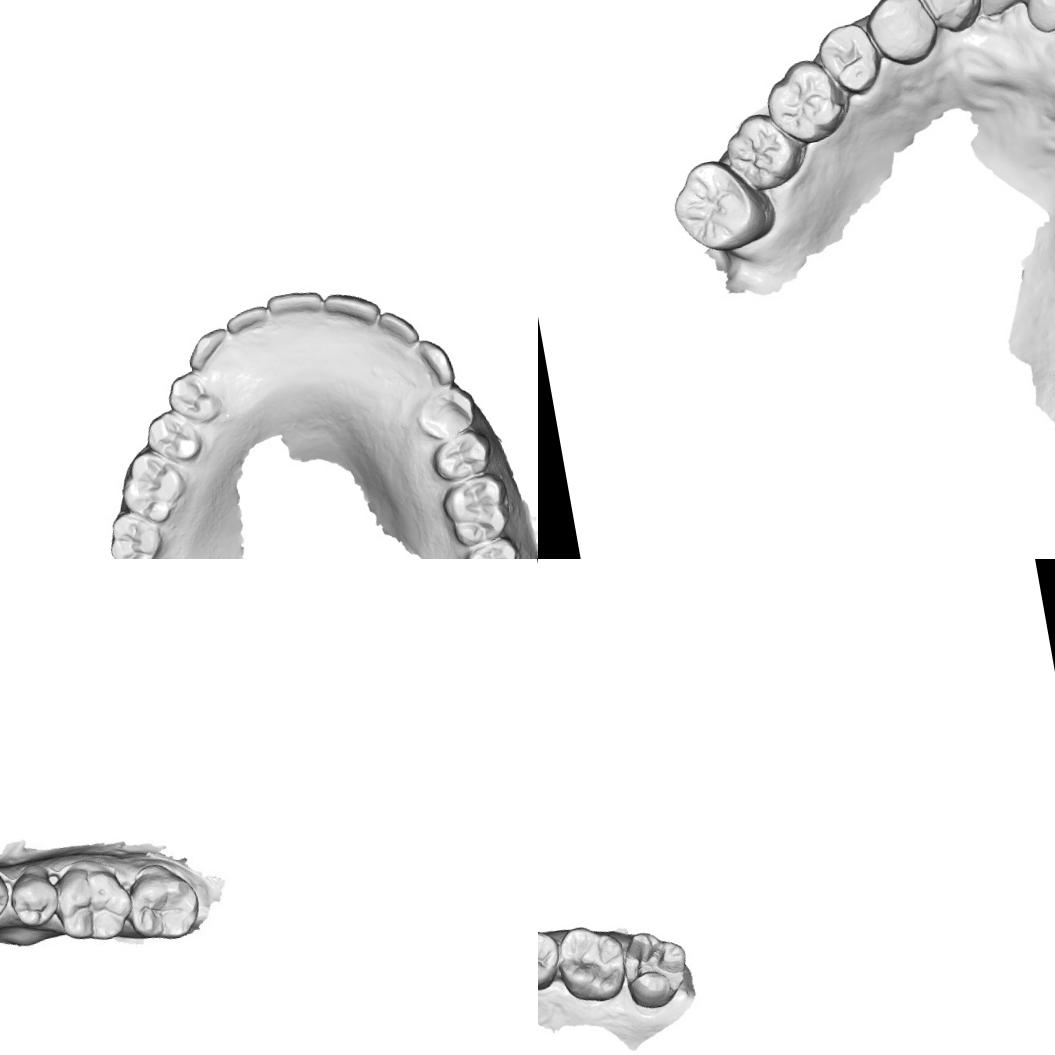canine: (908, 0, 991, 38), (180, 324, 238, 370), (411, 330, 456, 389)
incisor: (316, 282, 379, 340), (376, 298, 426, 356), (266, 282, 324, 332), (221, 295, 270, 344), (969, 0, 1047, 18)
inlay: (618, 930, 689, 999)
molar: (664, 148, 776, 262), (758, 52, 856, 150), (712, 105, 808, 198), (50, 857, 134, 944), (550, 919, 630, 1008), (113, 442, 194, 528), (126, 859, 204, 946), (436, 469, 515, 548), (103, 504, 167, 559), (455, 534, 530, 559)
premolar: (812, 17, 885, 102), (858, 0, 941, 71), (144, 403, 214, 473), (410, 382, 478, 444), (426, 426, 494, 486), (162, 366, 224, 428), (8, 872, 56, 924), (538, 926, 566, 993), (0, 861, 11, 922)
